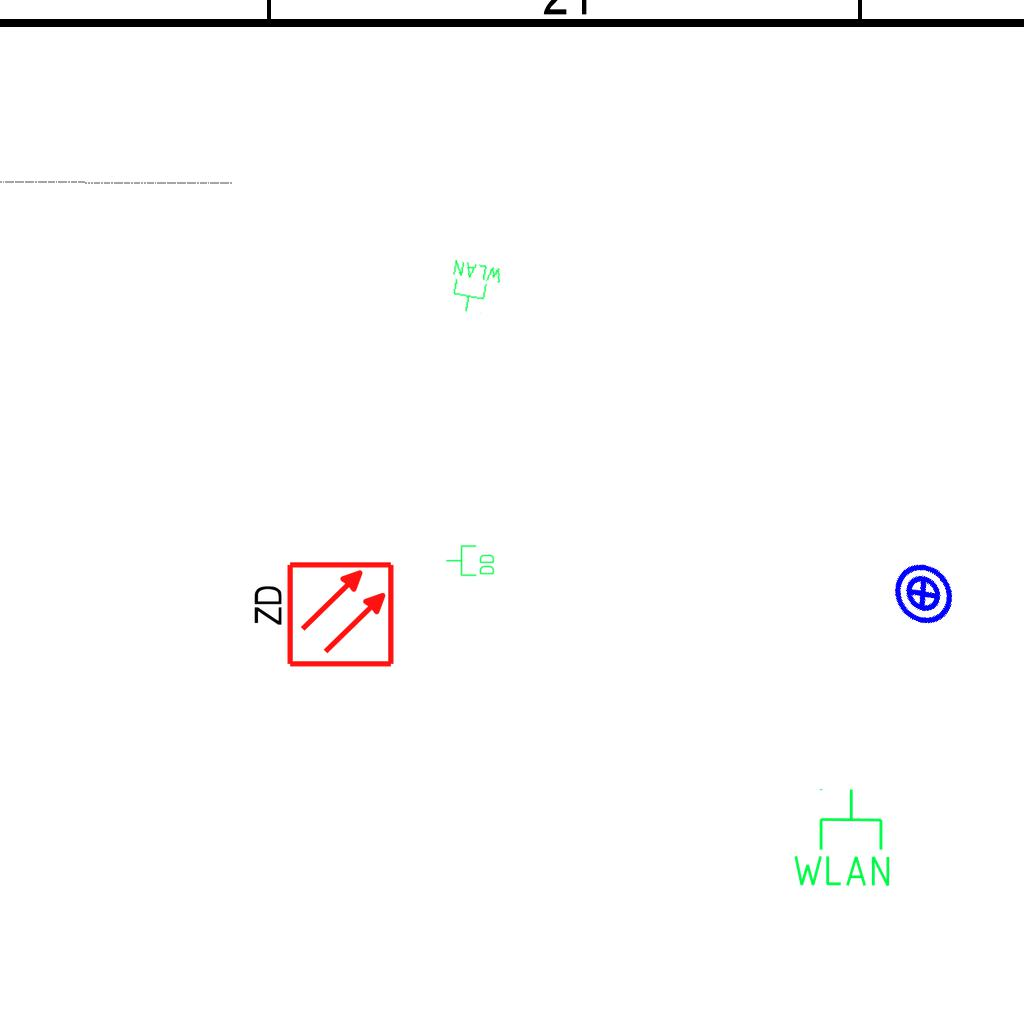Datenanschluss_zweifach: (445, 544, 496, 578)
Taster_beleuchtet: (876, 547, 970, 641)
WLAN: (789, 786, 894, 890), (444, 257, 506, 319)
ZD_Melder_in_Zwischendecke_mit_Revisionsoeffnung_mind_40_x_40_cm: (247, 559, 396, 673)
